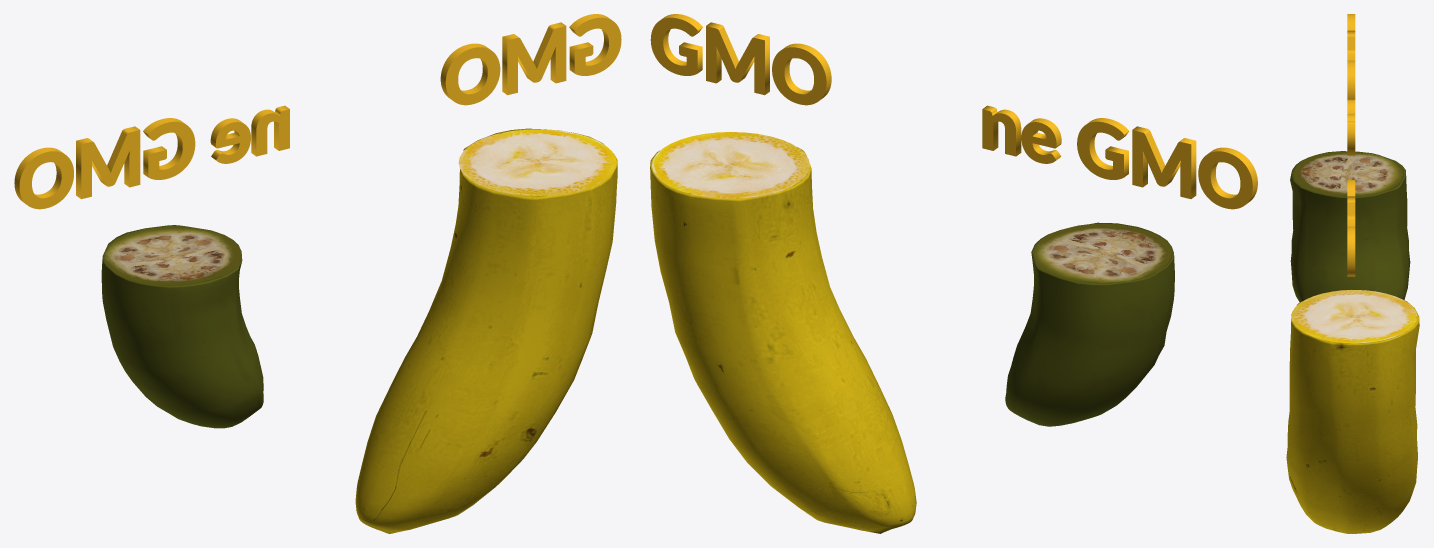
The model's file is gmo.glb.
3 renders of one model, left to right at view 1: azimuth 30°, elevation 25°; view 2: azimuth 150°, elevation 25°; view 3: azimuth 270°, elevation 25°, orthographic. The views are drawn at different scales.
Visible parts, largest first — view 1: Banana_body, Banana_small body, Text.001; view 2: Banana_body, Banana_small body, Text.001; view 3: Banana_body, Banana_small body, Text.001.
Boxes of the visible parts, x1=… form: Banana_body: x1=355, y1=128, x2=617, y2=533; Banana_small body: x1=101, y1=225, x2=263, y2=428; Text.001: x1=14, y1=14, x2=621, y2=209; Banana_body: x1=650, y1=132, x2=916, y2=533; Banana_small body: x1=1005, y1=222, x2=1174, y2=426; Text.001: x1=650, y1=14, x2=1257, y2=209; Banana_body: x1=1286, y1=289, x2=1419, y2=533; Banana_small body: x1=1290, y1=151, x2=1410, y2=302; Text.001: x1=1347, y1=14, x2=1355, y2=276.
Bounding box in the file's own units: 4.13 × 3.05 × 0.9918.
Materials: 5 (4 with a texture image).
